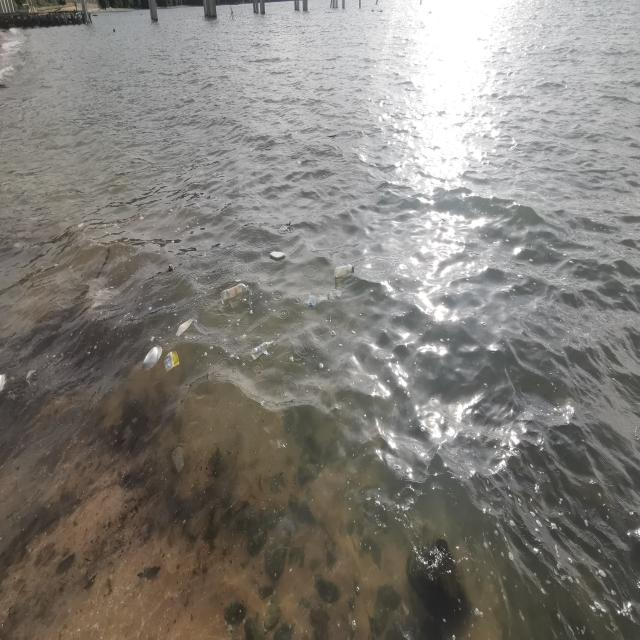can: (168, 263, 173, 271)
foam: (142, 344, 162, 376), (271, 250, 285, 260)
plastic: (221, 280, 249, 302), (252, 338, 274, 360), (334, 264, 354, 278), (277, 220, 292, 233)
plastic bottle: (306, 288, 343, 310), (172, 447, 186, 474), (166, 350, 180, 371)
unknow: (176, 317, 195, 339)
